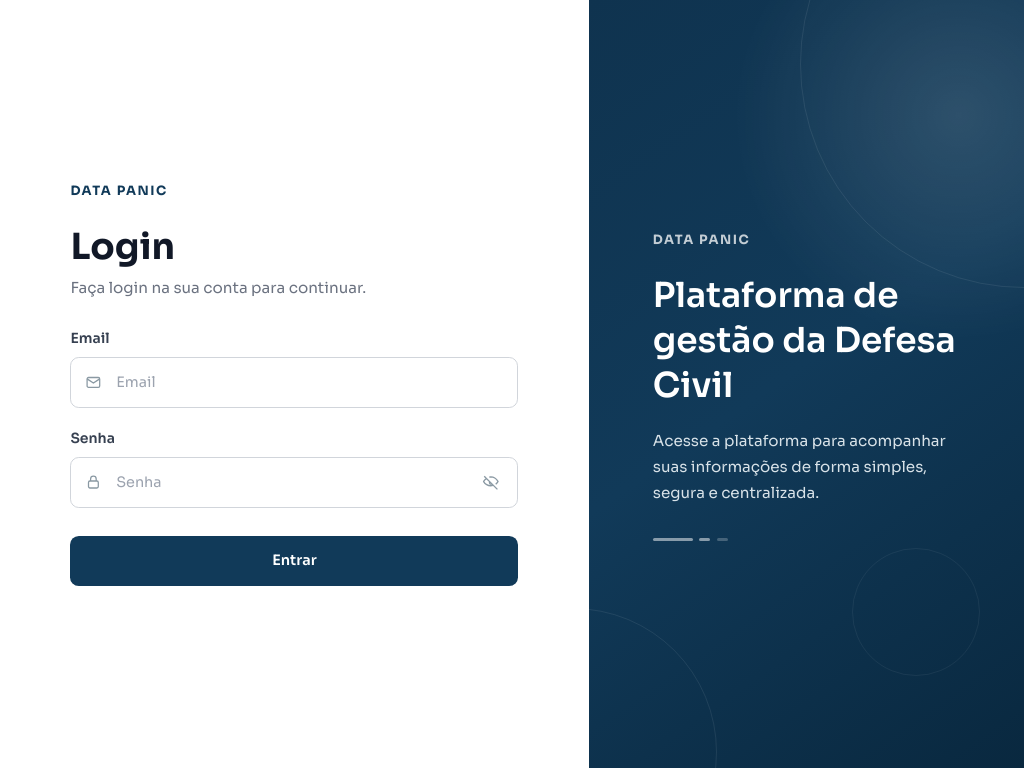
Test: Página de login › desabilita o botão enquanto o login está em andamento
Step 1. Type "admin@kp.dev" into the field with placeholder "Email" → (294, 383), box x1=70 y1=357 x2=518 y2=408
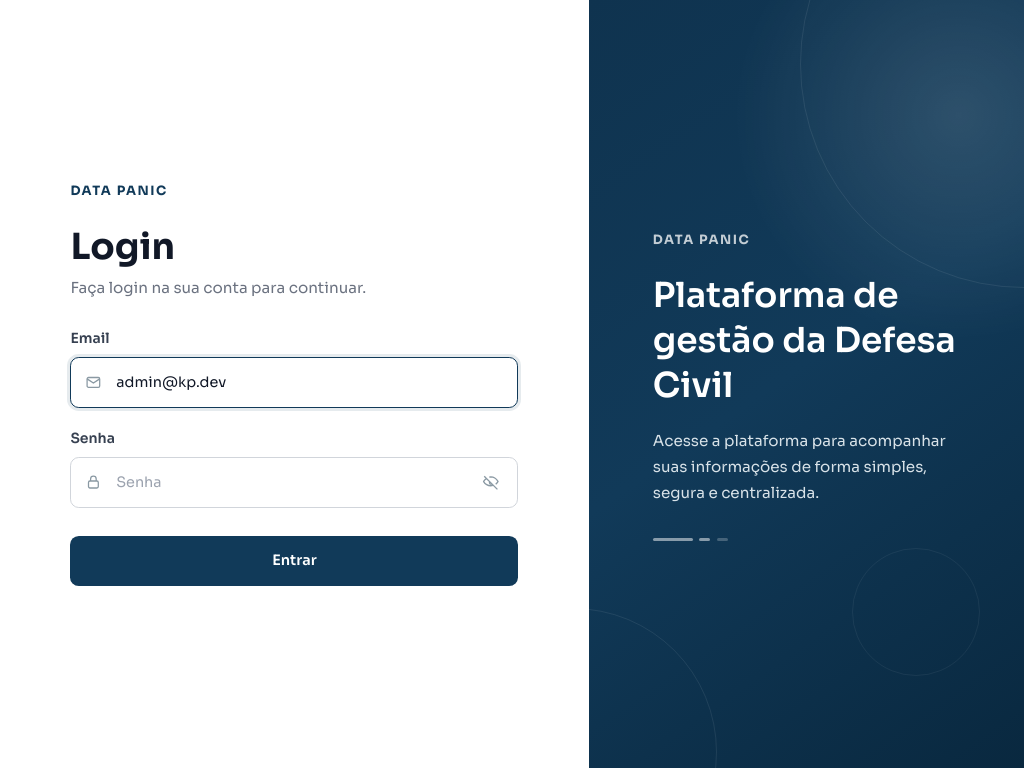
Step 2. Type "senha-forte" into the password field with placeholder "Senha" → (294, 482), box x1=70 y1=457 x2=518 y2=508
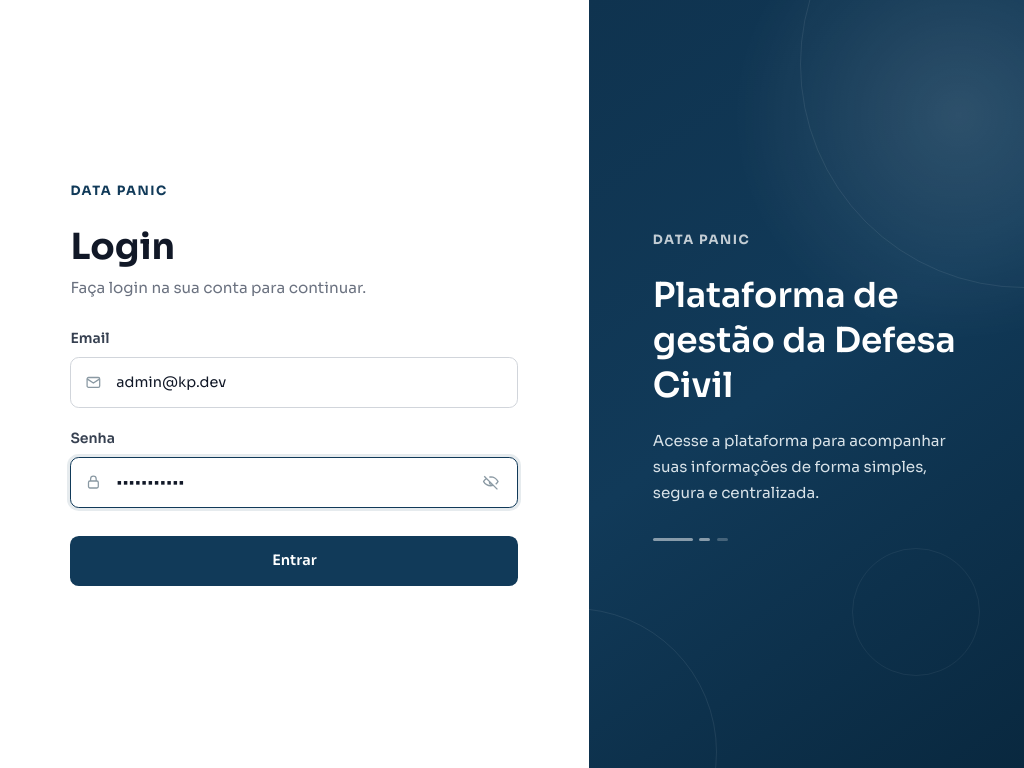
Step 3. Click the button "Entrar" → (294, 561), box x1=70 y1=536 x2=518 y2=586
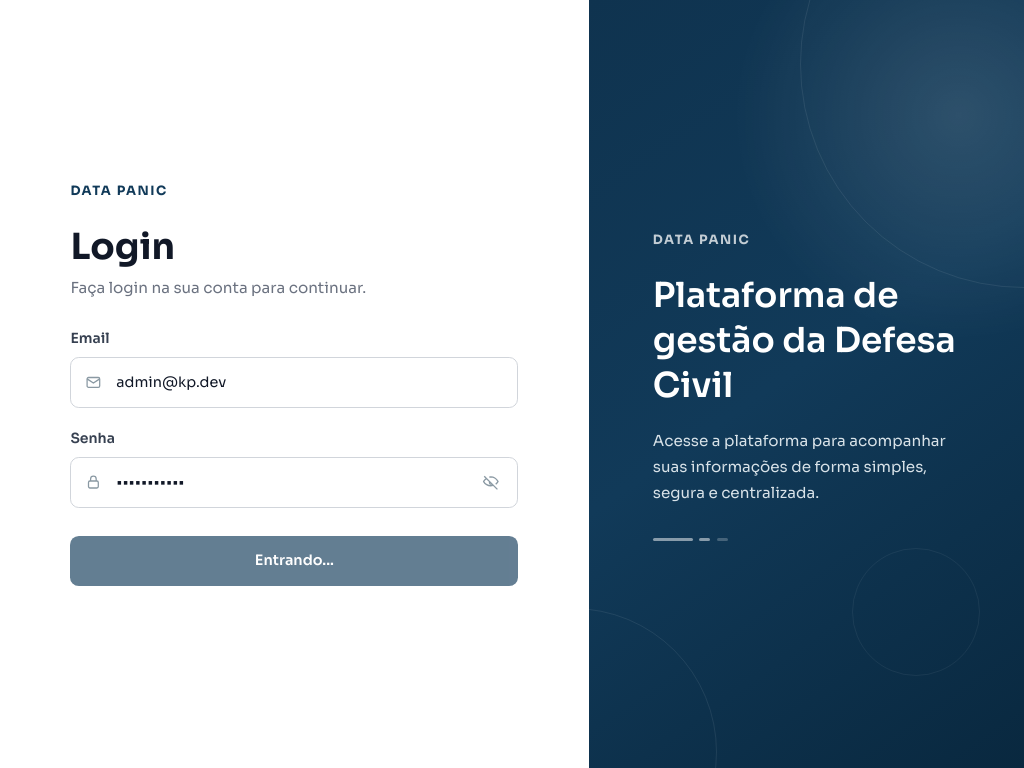
Now the button "Entrando..." is disabled, box x1=70 y1=536 x2=518 y2=586
